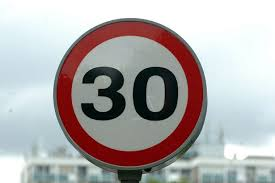Speed_limit_30km: (53, 17, 208, 172)
